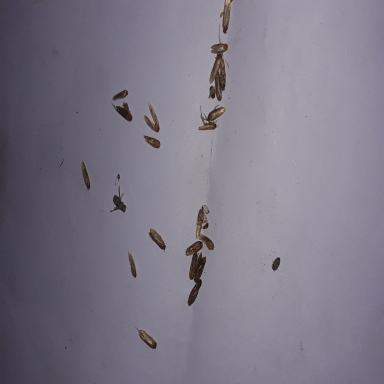pbw: (143, 103, 160, 134), (135, 325, 156, 349), (111, 101, 133, 122), (209, 53, 222, 84), (194, 251, 207, 282), (188, 278, 202, 305), (149, 226, 165, 248), (207, 104, 226, 122), (197, 114, 218, 130), (80, 159, 90, 189), (198, 232, 214, 250), (185, 240, 203, 256), (210, 38, 228, 54), (218, 57, 226, 92), (222, 0, 230, 33), (196, 208, 204, 238), (214, 71, 222, 101), (189, 252, 197, 280), (128, 251, 136, 278), (144, 135, 160, 148), (113, 90, 128, 100)
